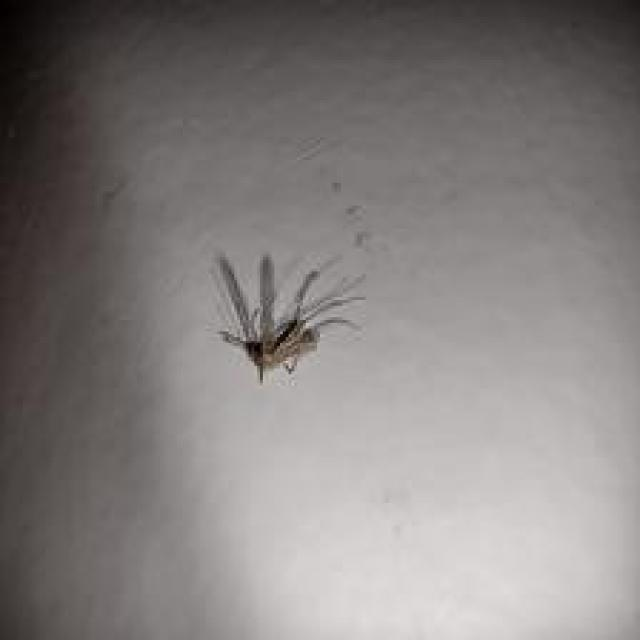Culex: (208, 250, 366, 384)
